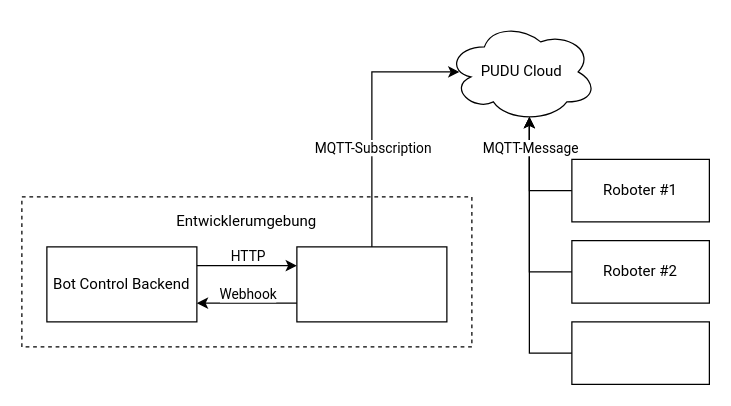
The diagram is 731 pixels wide and 406 high, and some of its shapes have lost their labels. The shapes that lost their labels are listed below. From the top down, each one's centre as x and y in pixels, then its label:
At [371,284]: "Microservice".
At [640,352]: "Roboter #3".
